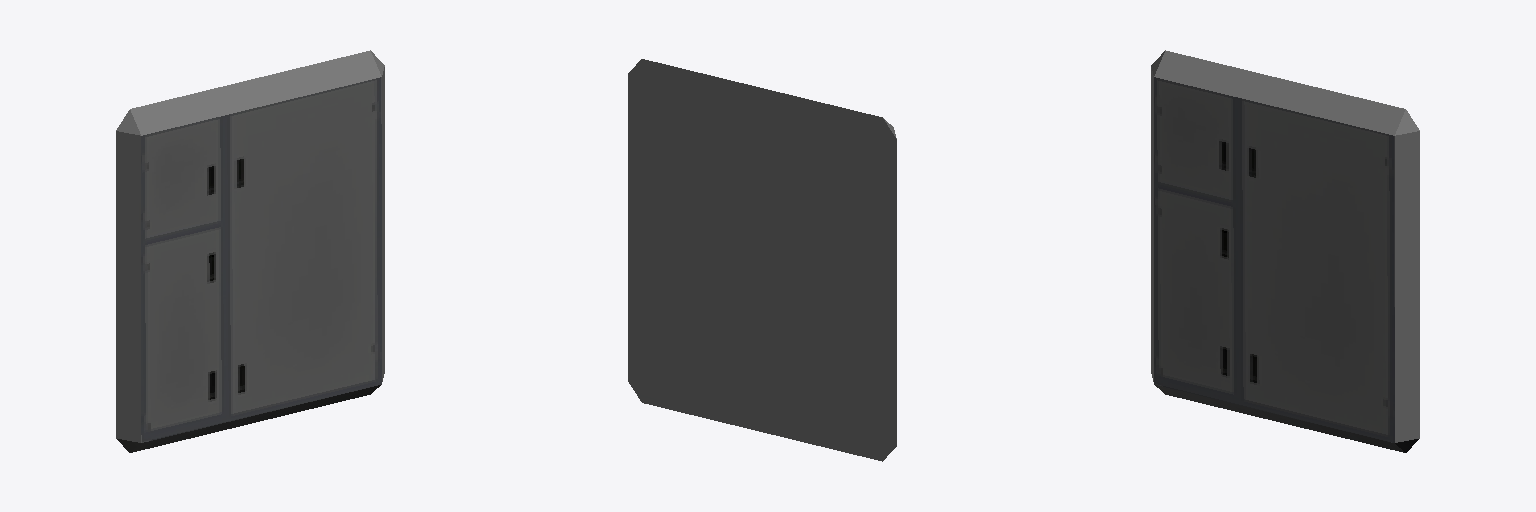
3 renders of one model, left to right at view 1: azimuth 30°, elevation 25°; view 2: azimuth 150°, elevation 25°; view 3: azimuth 330°, elevation 25°, orthographic.
Parts seen in each view (by area): view 1: Cube.001; view 2: Cube.001; view 3: Cube.001.
Part boxes in pixels (x1,y1,x2,y2): Cube.001: (116, 50, 384, 452); Cube.001: (628, 59, 896, 461); Cube.001: (1151, 50, 1419, 452).
Bounding box in the file's own units: 1.64 × 2 × 0.1205.
Materials: 1 (1 with a texture image).